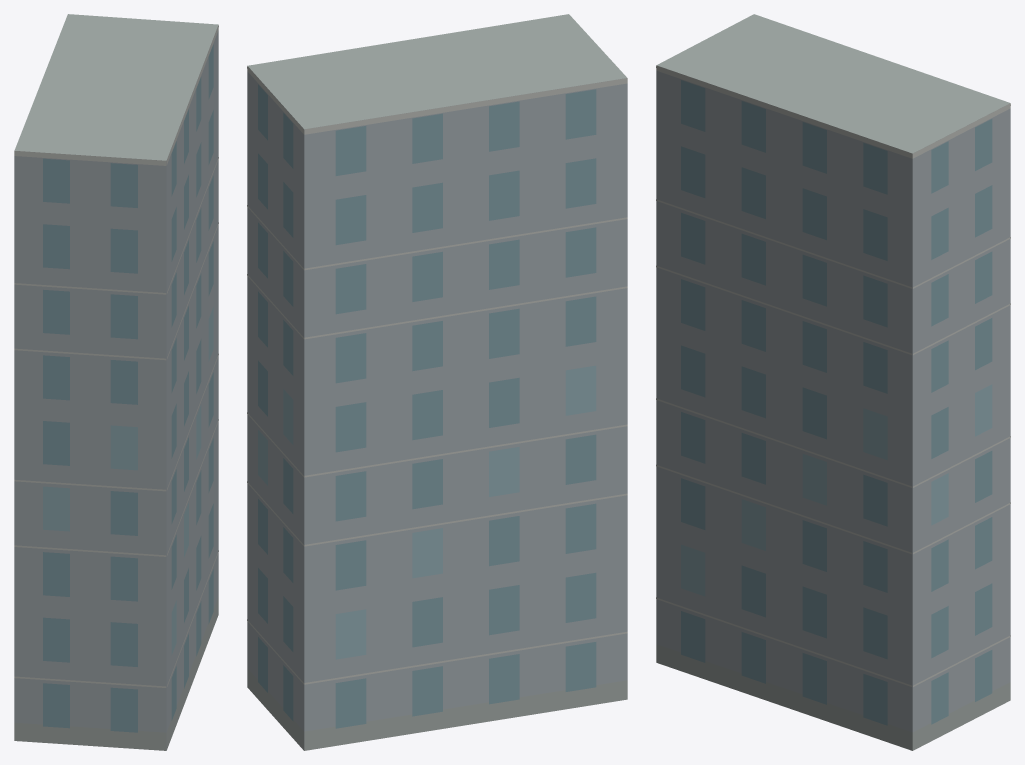
File: survey-upis-32922129.glb
The picture shows the model from 3 angles, left to right: view 1: azimuth 30°, elevation 25°; view 2: azimuth 150°, elevation 25°; view 3: azimuth 270°, elevation 25°; orthographic projection. The views are drawn at different scales.
Visible parts, largest first — view 1: survey-upis-32922129.tmp; view 2: survey-upis-32922129.tmp; view 3: survey-upis-32922129.tmp.
Part boxes in pixels (bbox=[...]): survey-upis-32922129.tmp: bbox=[14, 14, 218, 750]; survey-upis-32922129.tmp: bbox=[247, 14, 627, 750]; survey-upis-32922129.tmp: bbox=[656, 14, 1010, 750].
Size of the model in its own units: 13.77 by 27.45 by 14.78.
